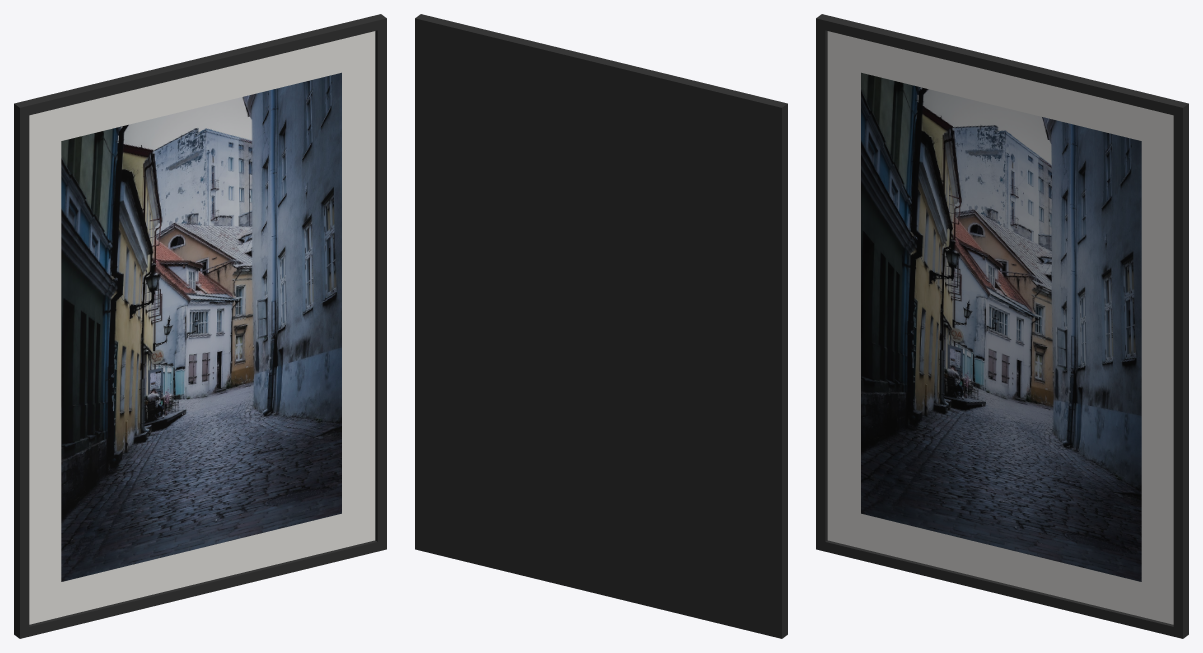
Rendered from granden-90.gltf.
The picture shows the model from 3 angles, left to right: view 1: azimuth 30°, elevation 25°; view 2: azimuth 150°, elevation 25°; view 3: azimuth 330°, elevation 25°; orthographic projection.
Parts seen in each view (by area): view 1: tavla; view 2: tavla; view 3: tavla.
Boxes of the visible parts, bbox=[...] form: tavla: bbox=[14, 14, 386, 638]; tavla: bbox=[415, 14, 787, 638]; tavla: bbox=[816, 14, 1188, 638].
Size of the model in its own units: 0.784 by 1.08 by 0.022.
Materials: 3 (1 with a texture image).
